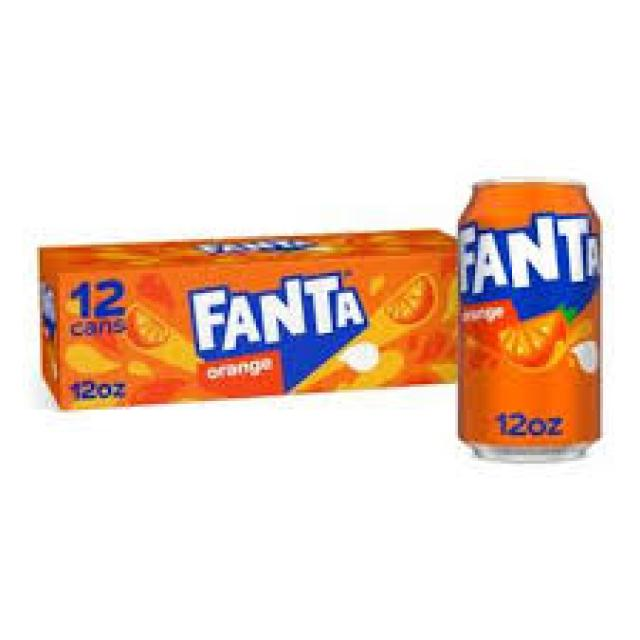Cans: (447, 165, 617, 472)
